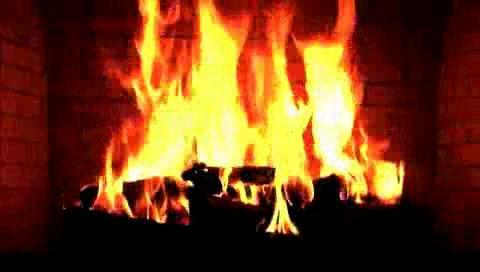fire: (68, 0, 475, 230)
